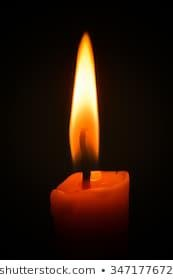fire: (68, 29, 99, 162)
